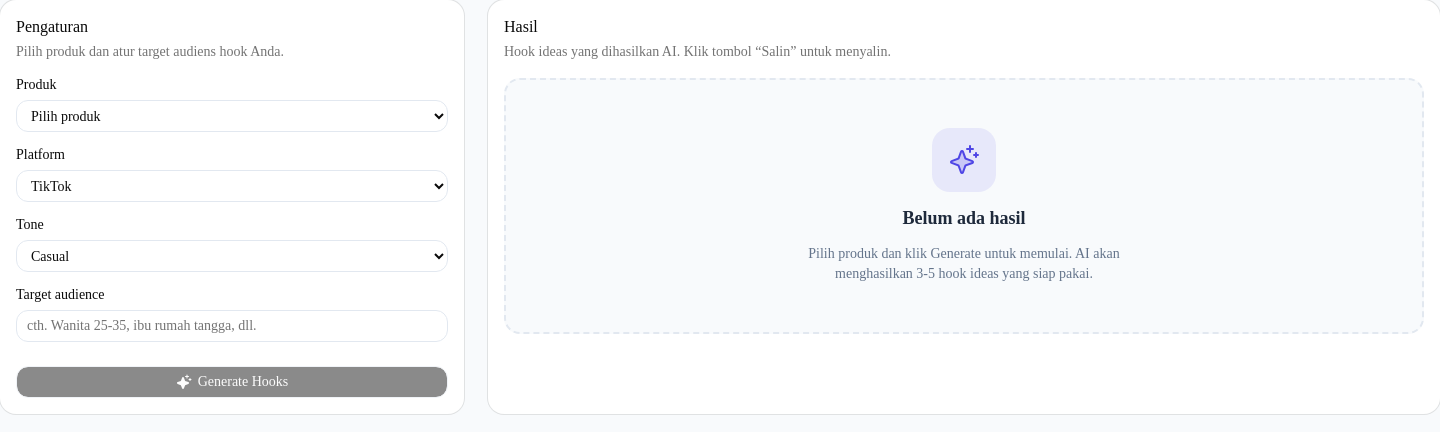
Test: HookGenerator › shows hook cards when results are returned
Select "Sample Product A" in the dropdown labelled "Produk" at x=232, y=116, box [16,100,448,132]
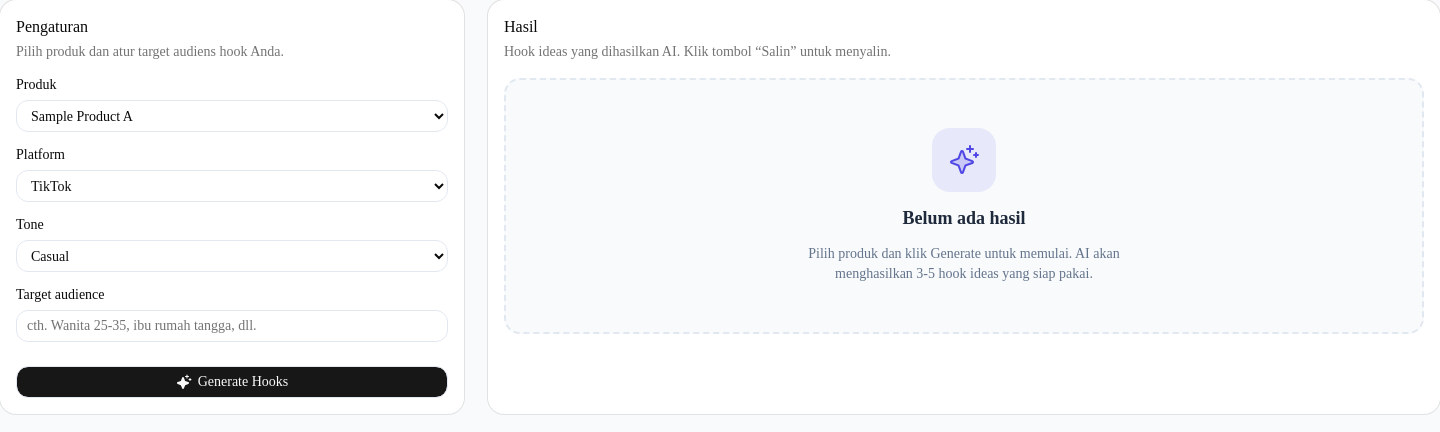
Click the button "Generate Hooks" at x=232, y=382, box [16,366,448,398]
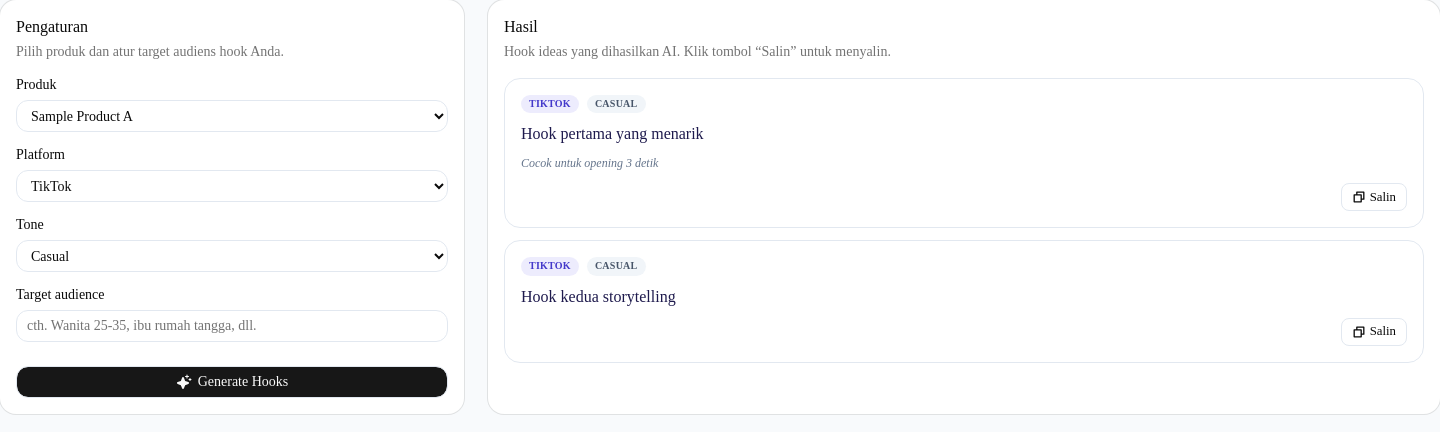
Now the text "Hook pertama yang menarik" is shown, box [521,125,704,142]
Now the text "Hook kedua storytelling" is shown, box [521,288,676,305]
Now the text "Cocok untuk opening 3 detik" is shown, box [521,156,658,170]
